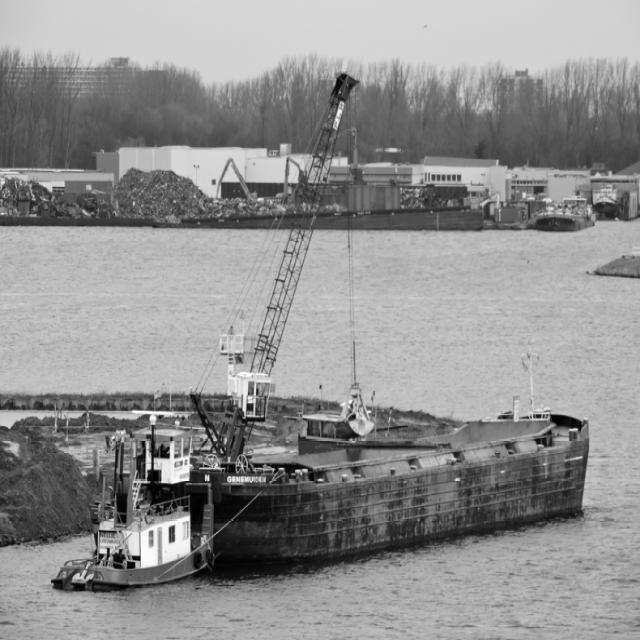tugboat: (49, 408, 220, 602)
